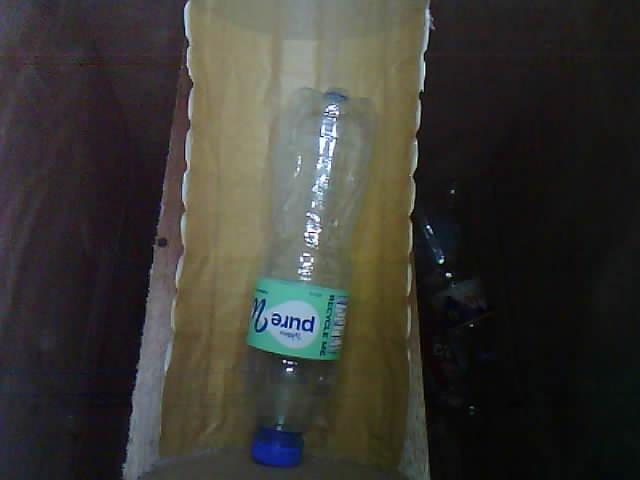small_bottle: (228, 69, 385, 480)
